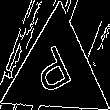P_SE: (32, 40, 82, 102)
